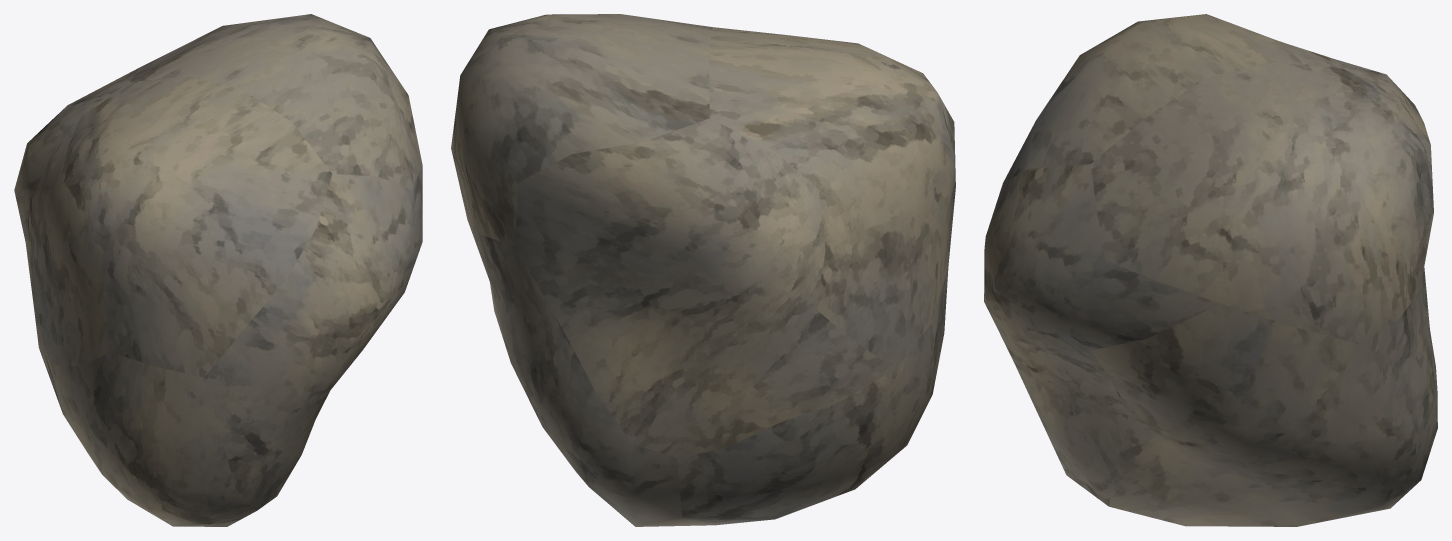
File: rock2.fbx
3 renders of one model, left to right at view 1: azimuth 30°, elevation 25°; view 2: azimuth 150°, elevation 25°; view 3: azimuth 270°, elevation 25°, orthographic. The views are drawn at different scales.
Parts seen in each view (by area): view 1: Mossy_Rock_3:Mesh; view 2: Mossy_Rock_3:Mesh; view 3: Mossy_Rock_3:Mesh.
Boxes of the visible parts, bbox=[...] form: Mossy_Rock_3:Mesh: bbox=[14, 14, 422, 526]; Mossy_Rock_3:Mesh: bbox=[451, 14, 955, 526]; Mossy_Rock_3:Mesh: bbox=[984, 14, 1437, 526].
Bounding box in the file's own units: 3.68 × 3.92 × 3.38.
